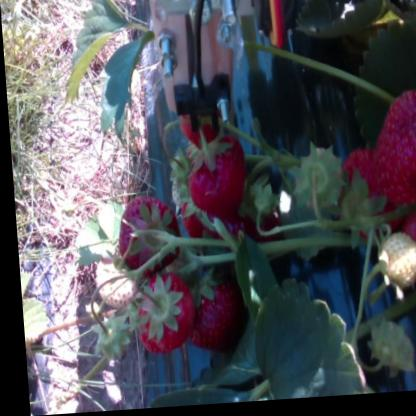ripe: (174, 270, 251, 359), (178, 140, 250, 231), (122, 280, 194, 366), (107, 192, 181, 273), (333, 154, 404, 234), (370, 89, 416, 198), (173, 113, 229, 148)
unripe: (81, 245, 139, 312), (285, 148, 339, 216), (372, 236, 416, 295)
